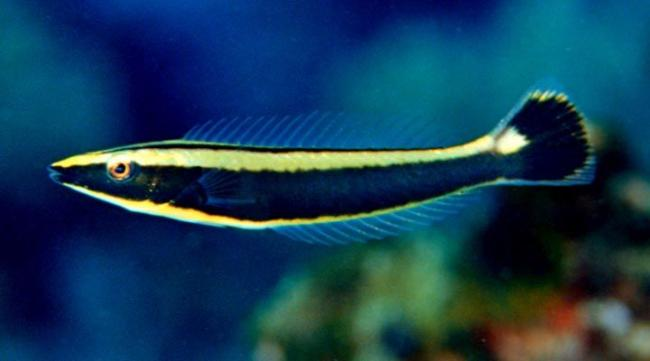fish: (47, 74, 597, 245)
